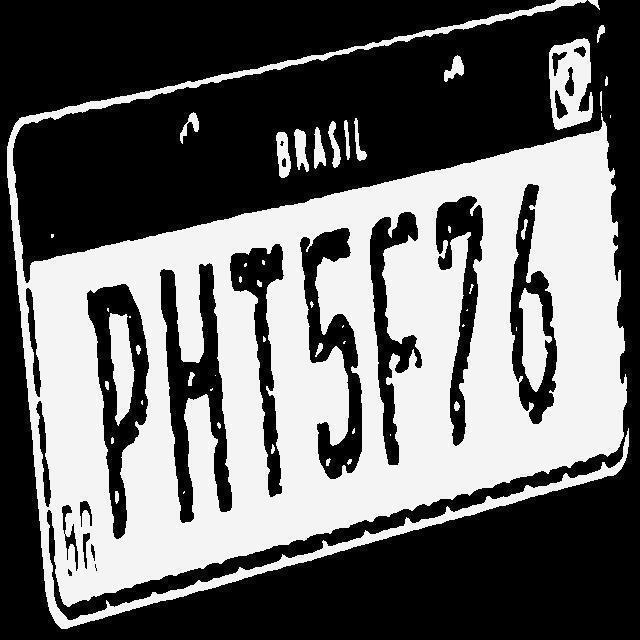5: (298, 220, 362, 499)
6: (506, 169, 570, 421)
7: (436, 186, 499, 452)
f: (364, 195, 432, 480)
h: (158, 262, 232, 546)
p: (79, 278, 149, 562)
t: (221, 242, 289, 512)
